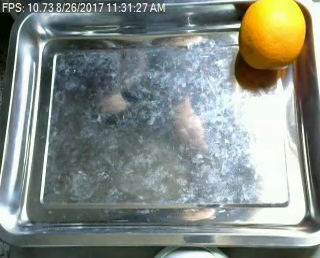Orange: (238, 1, 306, 70)
